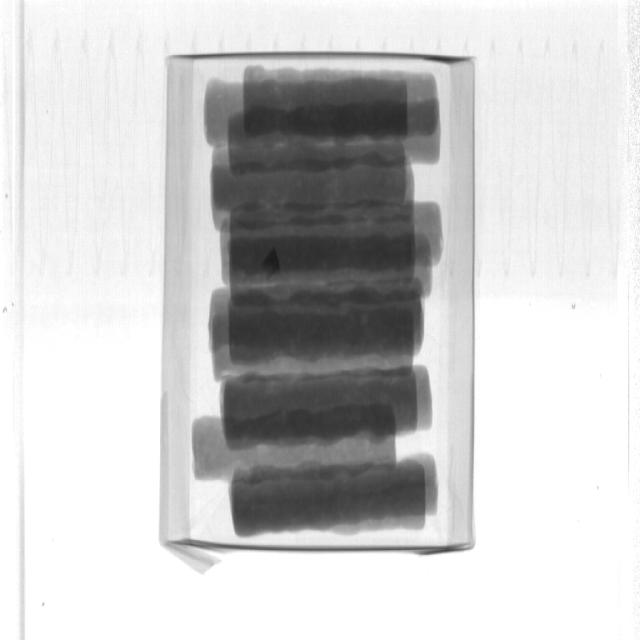ym: (263, 250, 283, 283)
